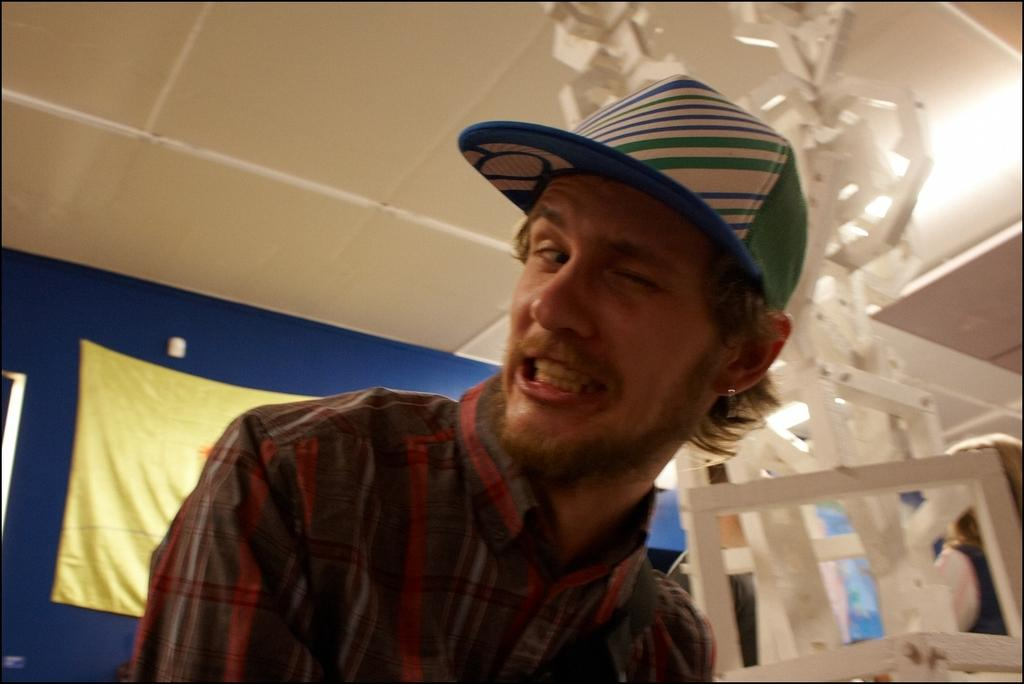Hat: (460, 74, 810, 314)
